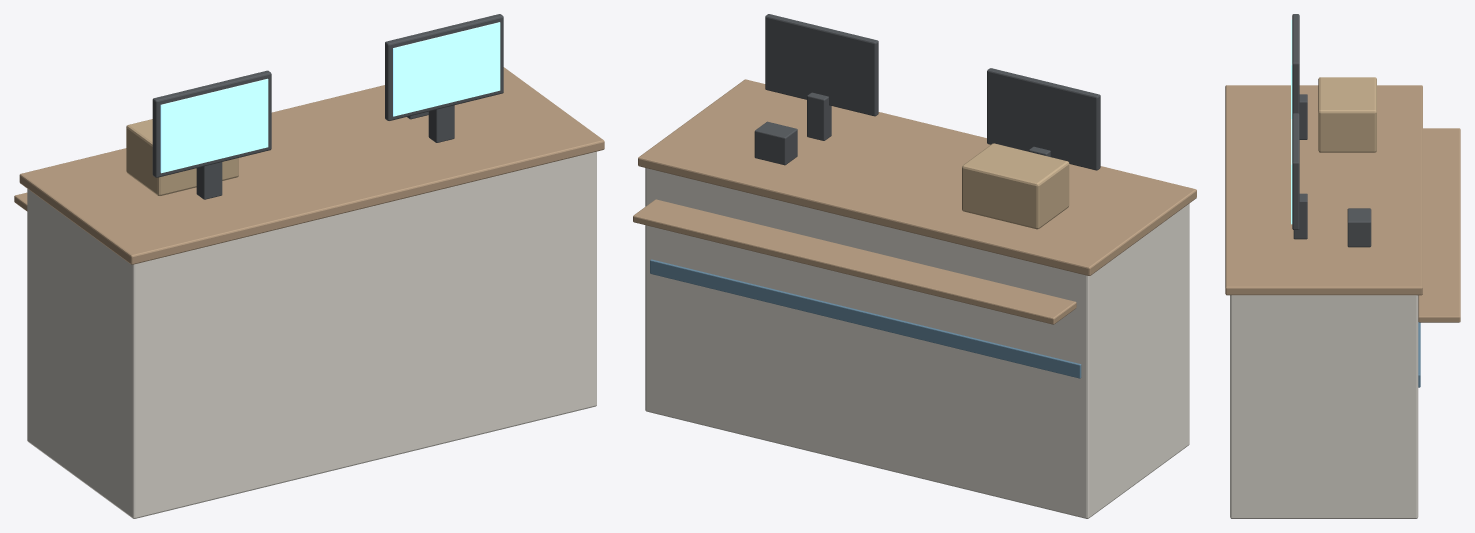
Rendered from pvz_counter.glb.
3 renders of one model, left to right at view 1: azimuth 30°, elevation 25°; view 2: azimuth 150°, elevation 25°; view 3: azimuth 270°, elevation 25°, orthographic. The views are drawn at different scales.
Visible parts, largest first — view 1: pvz_counter; view 2: pvz_counter; view 3: pvz_counter.
Boxes of the visible parts, x1,y1,x2,y2 form: pvz_counter: (14,14,604,518); pvz_counter: (633,14,1196,518); pvz_counter: (1225,14,1460,518).
Bounding box in the file's own units: 2.04 × 1.56 × 1.
